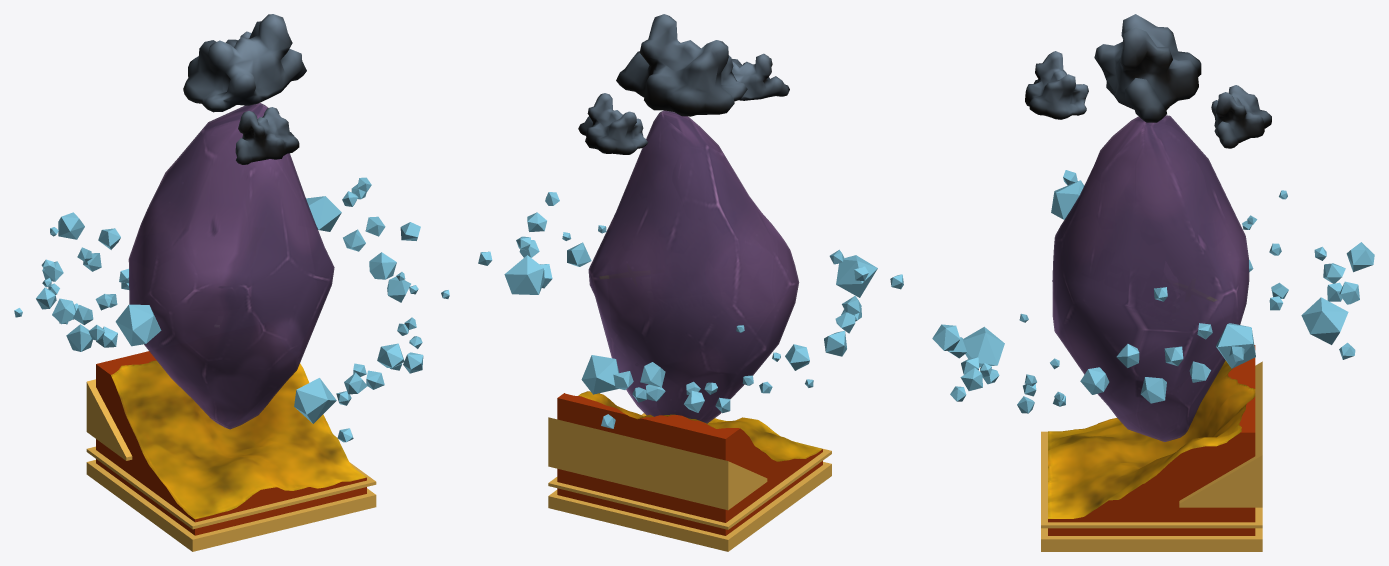
File: JadeArdinals_318.glb
The picture shows the model from 3 angles, left to right: view 1: azimuth 30°, elevation 25°; view 2: azimuth 150°, elevation 25°; view 3: azimuth 270°, elevation 25°; orthographic projection. The views are drawn at different scales.
Parts seen in each view (by area): view 1: lavender, savana, OrionBlue, DarkCloud; view 2: lavender, savana, DarkCloud, OrionBlue; view 3: lavender, savana, DarkCloud, OrionBlue.
Part boxes in pixels (x1,y1,x2,y2): lavender: (128,103,334,429); savana: (86,351,376,551); OrionBlue: (14,177,449,442); DarkCloud: (183,14,306,164); lavender: (588,110,799,423); savana: (548,391,831,551); DarkCloud: (578,14,789,154); OrionBlue: (478,192,903,428); lavender: (1052,115,1249,441); savana: (1041,345,1262,551); DarkCloud: (1025,14,1271,148); OrionBlue: (932,170,1374,413).
Size of the model in its own units: 4.19 by 5.27 by 4.27.
Materials: 8 (3 with a texture image).
